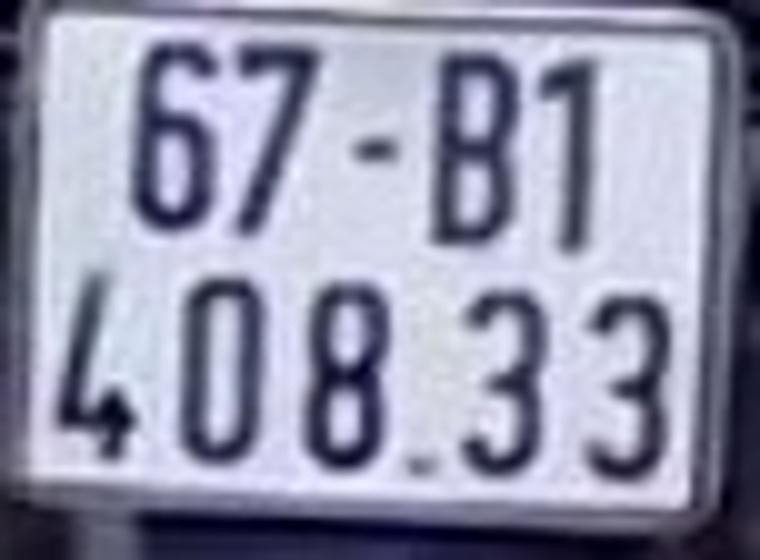-: (347, 139, 397, 162)
.: (410, 460, 429, 474)
0: (179, 282, 261, 460)
1: (541, 60, 588, 262)
3: (584, 295, 669, 483), (467, 287, 537, 473)
4: (62, 277, 135, 459)
6: (133, 39, 210, 230)
7: (234, 47, 314, 235)
8: (307, 282, 383, 468)
B: (438, 51, 512, 240)
